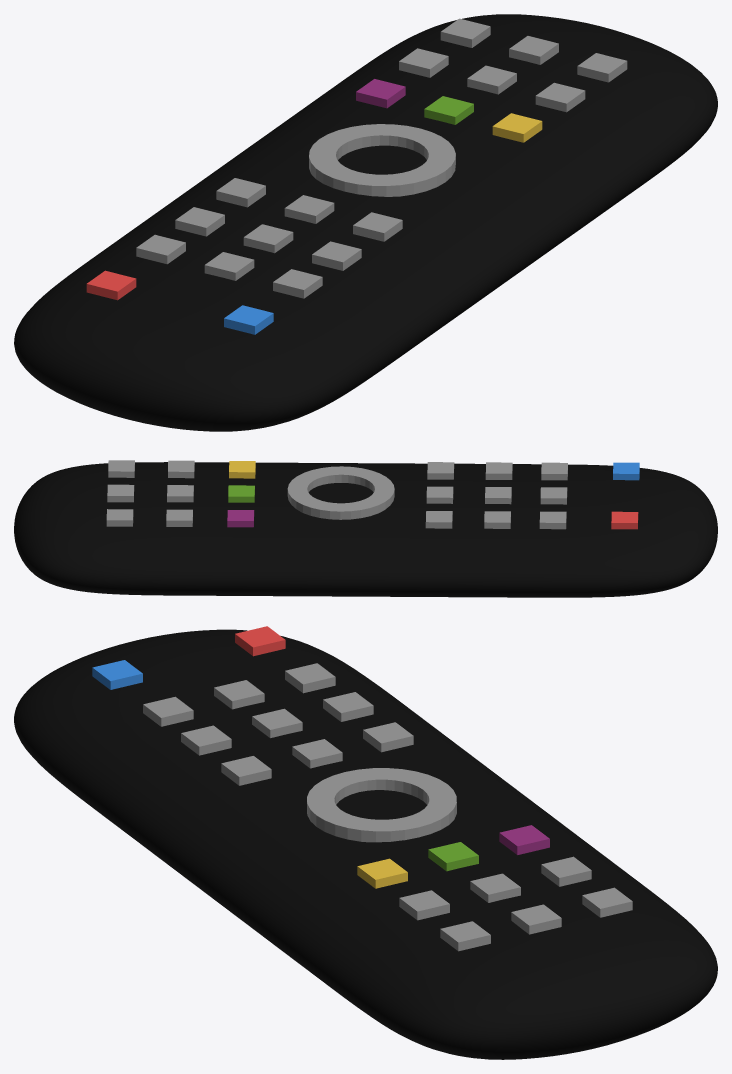
Rendered from remote.glb.
3 renders of one model, top to bottom at view 1: azimuth 30°, elevation 25°; view 2: azimuth 150°, elevation 25°; view 3: azimuth 270°, elevation 25°, orthographic. The views are drawn at different scales.
Visible parts, largest first — view 1: Plane, Cylinder, Cube.065, Cube.056, Cube.068, Cube.071, Cube.073, Cube.055, Cube.062, Cube.064, Cube.067, Cube.070 (+10 smaller); view 2: Plane, Cylinder, Cube.072, Cube.058, Cube.056, Cube.054, Cube.055, Cube.068, Cube.073, Cube.057, Cube.059, Cube.063 (+10 smaller); view 3: Plane, Cylinder, Cube.054, Cube.070, Cube.055, Cube.056, Cube.067, Cube.058, Cube.059, Cube.061, Cube.062, Cube.064 (+10 smaller).
Part boxes in pixels (bbox=[...]): Plane: bbox=[14, 14, 717, 431]; Cylinder: bbox=[309, 124, 455, 196]; Cube.065: bbox=[492, 113, 542, 142]; Cube.056: bbox=[86, 270, 136, 300]; Cube.068: bbox=[535, 82, 585, 112]; Cube.071: bbox=[577, 53, 627, 82]; Cube.073: bbox=[440, 18, 490, 47]; Cube.055: bbox=[224, 305, 273, 334]; Cube.062: bbox=[353, 212, 402, 241]; Cube.064: bbox=[216, 178, 265, 207]; Cube.067: bbox=[356, 79, 405, 108]; Cube.070: bbox=[399, 48, 448, 77]; Plane: bbox=[14, 462, 717, 597]; Cylinder: bbox=[287, 466, 394, 519]; Cube.072: bbox=[107, 484, 134, 502]; Cube.058: bbox=[539, 511, 566, 529]; Cube.056: bbox=[611, 511, 638, 529]; Cube.054: bbox=[541, 462, 567, 480]; Cube.055: bbox=[613, 462, 639, 480]; Cube.068: bbox=[168, 460, 194, 478]; Cube.073: bbox=[106, 509, 133, 526]; Cube.057: bbox=[540, 487, 567, 504]; Cube.059: bbox=[485, 462, 512, 479]; Cube.063: bbox=[426, 486, 453, 503]; Plane: bbox=[14, 629, 717, 1059]; Cylinder: bbox=[307, 768, 456, 842]; Cube.054: bbox=[143, 696, 193, 726]; Cube.070: bbox=[541, 856, 591, 886]; Cube.055: bbox=[92, 660, 142, 689]; Cube.056: bbox=[235, 626, 285, 656]; Cube.067: bbox=[499, 825, 549, 854]; Cube.058: bbox=[285, 663, 335, 693]; Cube.059: bbox=[181, 725, 231, 755]; Cube.061: bbox=[323, 692, 373, 721]; Cube.062: bbox=[221, 756, 271, 785]; Cube.064: bbox=[363, 722, 413, 752].
Bounding box in the file's own units: 0.4009 × 0.0493 × 0.3008.
